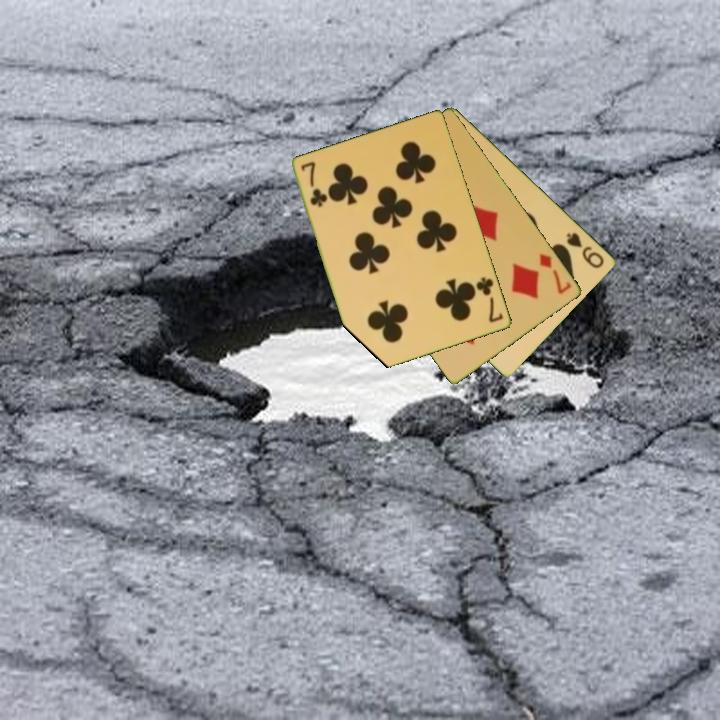7c: (473, 274, 506, 326), (298, 158, 329, 210)
7d: (536, 250, 575, 297)
9s: (563, 229, 607, 271)
